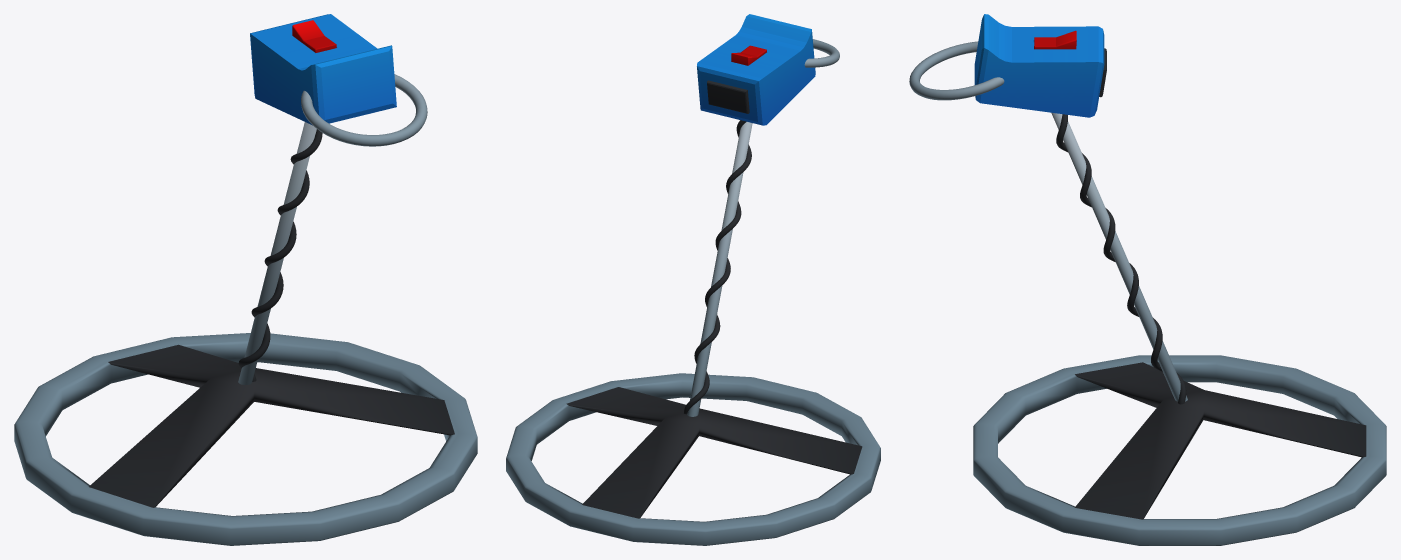
The model's file is Detector.fbx.
The picture shows the model from 3 angles, left to right: view 1: azimuth 30°, elevation 25°; view 2: azimuth 150°, elevation 25°; view 3: azimuth 270°, elevation 25°; orthographic projection. The views are drawn at different scales.
Visible parts, largest first — view 1: Detector; view 2: Detector; view 3: Detector.
Part boxes in pixels (box(x1,y1,x2,y2)): Detector: box(14, 14, 477, 545); Detector: box(506, 14, 880, 545); Detector: box(909, 14, 1386, 545).
Size of the model in its own units: 122 by 140 by 141.
1 material, 1 textured.
